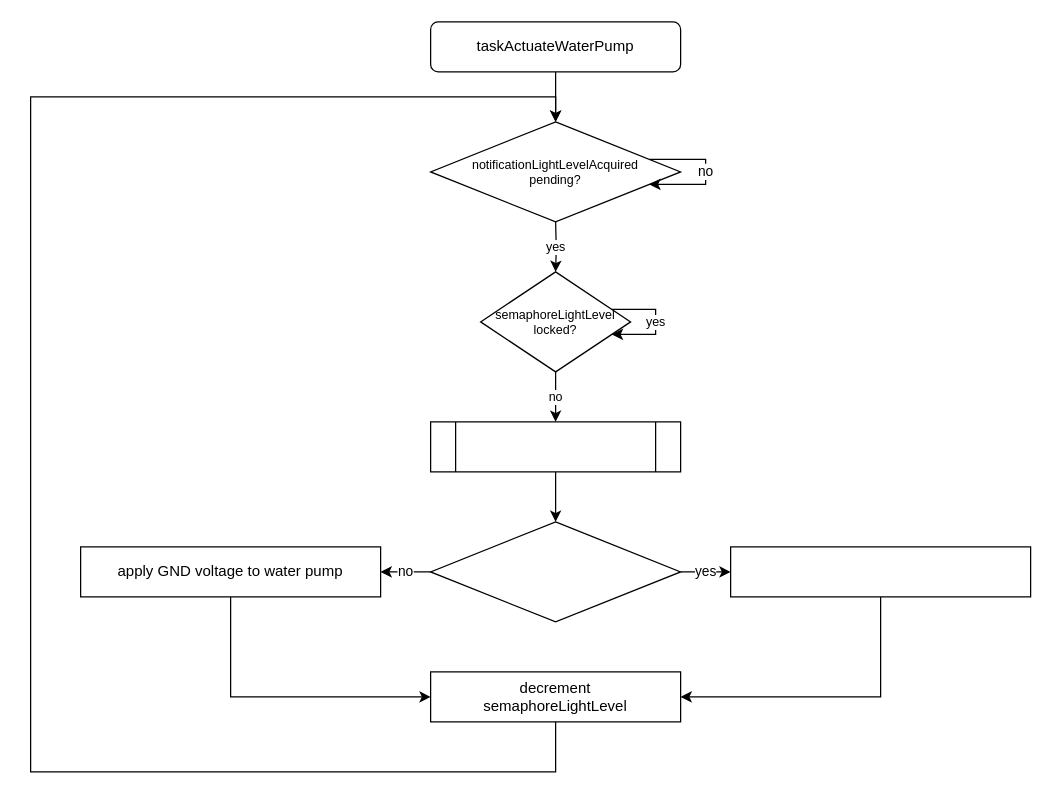
Image size: 1053x804. Some labels were removed from this diagram. Here are the shapes that lost their labels. From the top down, the box of each, then its label:
(429, 421, 681, 472): take light level from lightLevelBuffer
(429, 521, 681, 622): light level < ref light level?
(729, 546, 1031, 597): apply VCC voltage to water pump
